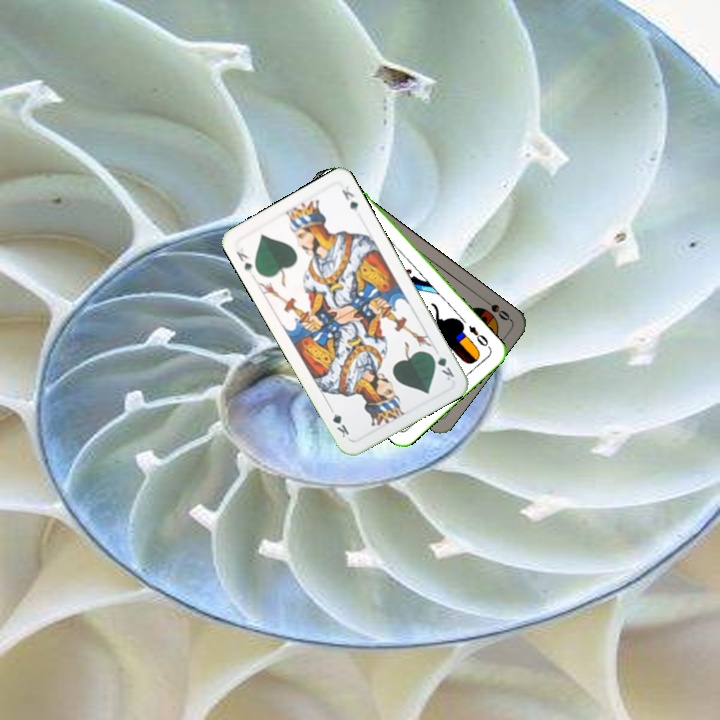EO: (464, 321, 491, 349)
GK: (427, 349, 457, 383), (232, 247, 255, 276)
SO: (478, 293, 513, 323)
